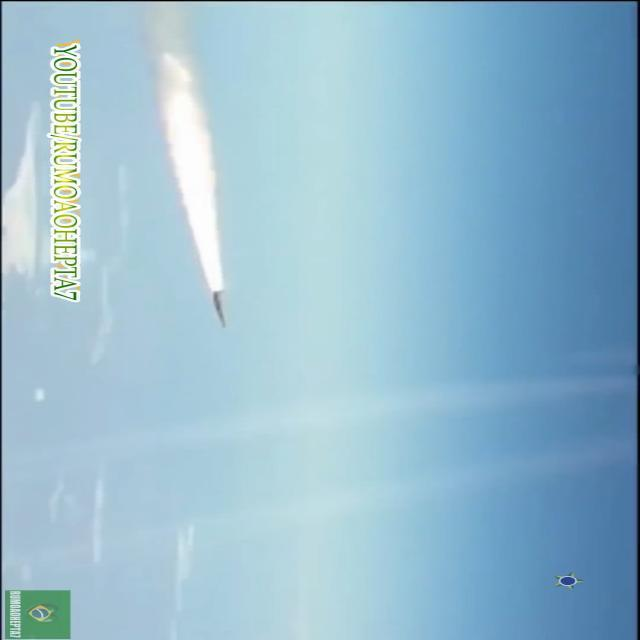missile: (208, 292, 229, 328)
